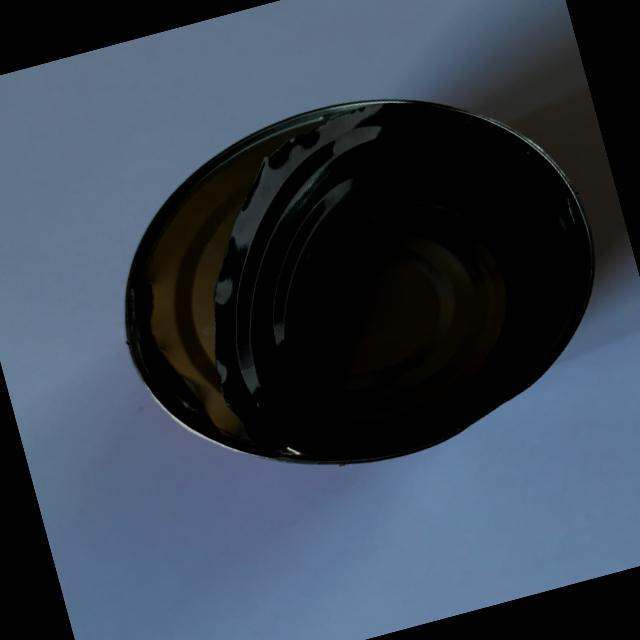Metal: (55, 27, 640, 542)
